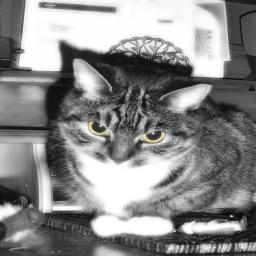catnose: (106, 151, 134, 165)
